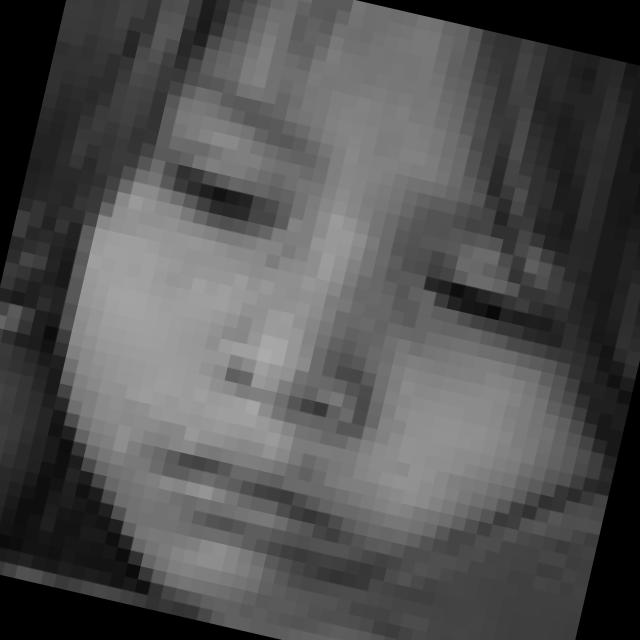sad: (64, 59, 622, 622)
